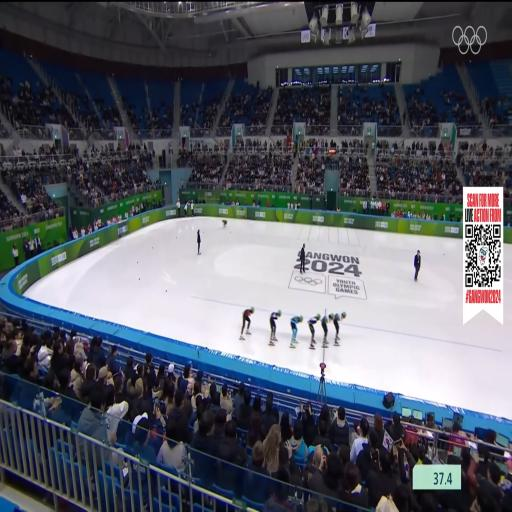Skater: (240, 307, 254, 339), (333, 312, 346, 346), (269, 310, 281, 345), (308, 314, 320, 349), (290, 316, 302, 347), (322, 314, 333, 347), (222, 218, 228, 228)
